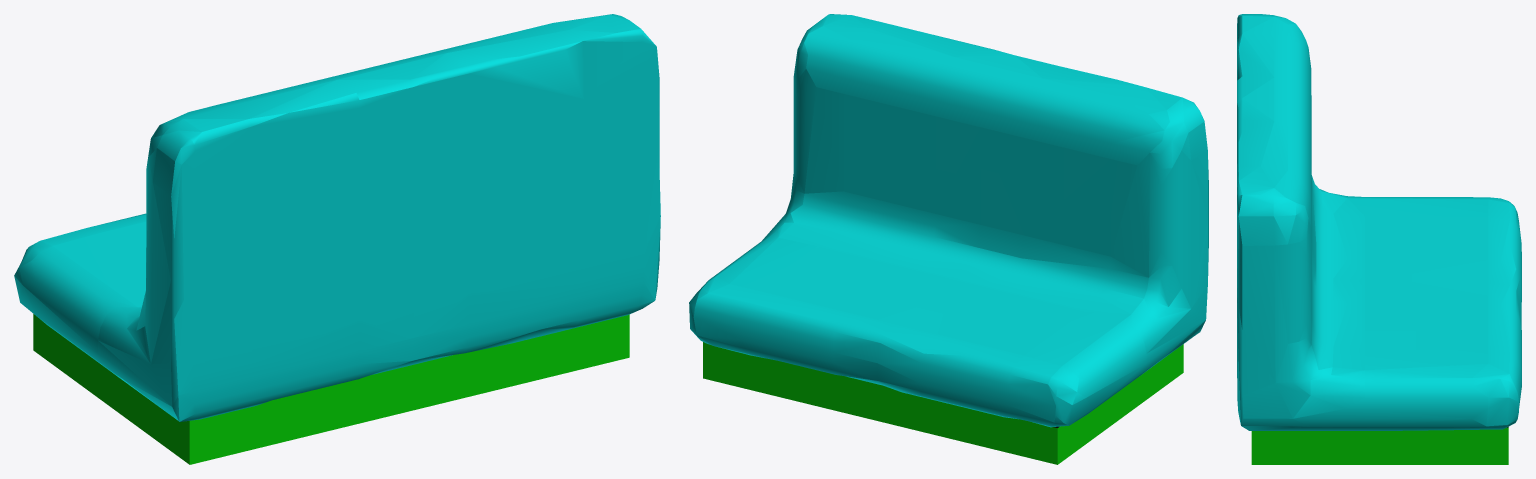
Rendered from SM_Diner_Chair.fbx.
3 renders of one model, left to right at view 1: azimuth 30°, elevation 25°; view 2: azimuth 150°, elevation 25°; view 3: azimuth 270°, elevation 25°, orthographic. The views are drawn at different scales.
Parts seen in each view (by area): view 1: SM_Diner_CHair; view 2: SM_Diner_CHair; view 3: SM_Diner_CHair.
Part boxes in pixels (left/top/right/bottom): SM_Diner_CHair: left=14, top=14, right=660, bottom=464; SM_Diner_CHair: left=689, top=14, right=1208, bottom=464; SM_Diner_CHair: left=1237, top=14, right=1521, bottom=464.
Bounding box in the file's own units: 76.09 × 50.13 × 46.71.
